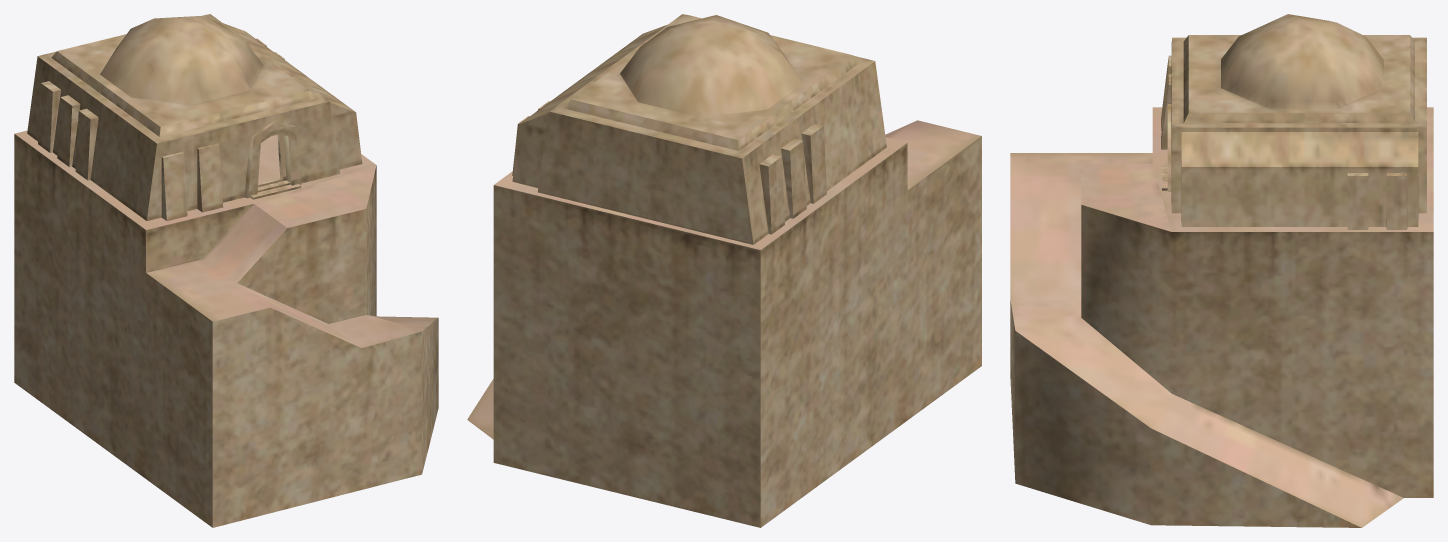
Rendered from ply_tato_house_sm_s01_fp1_r0_mesh_l3.fbx.
3 renders of one model, left to right at view 1: azimuth 30°, elevation 25°; view 2: azimuth 150°, elevation 25°; view 3: azimuth 270°, elevation 25°, orthographic. The views are drawn at different scales.
Parts seen in each view (by area): view 1: mesh_node; view 2: mesh_node; view 3: mesh_node.
Boxes of the visible parts, <box> form: mesh_node: <box>14,14,438,527</box>; mesh_node: <box>467,14,981,527</box>; mesh_node: <box>1010,14,1433,527</box>.
Size of the model in its own units: 20.58 by 25.23 by 23.82.
1 material, 1 textured.
